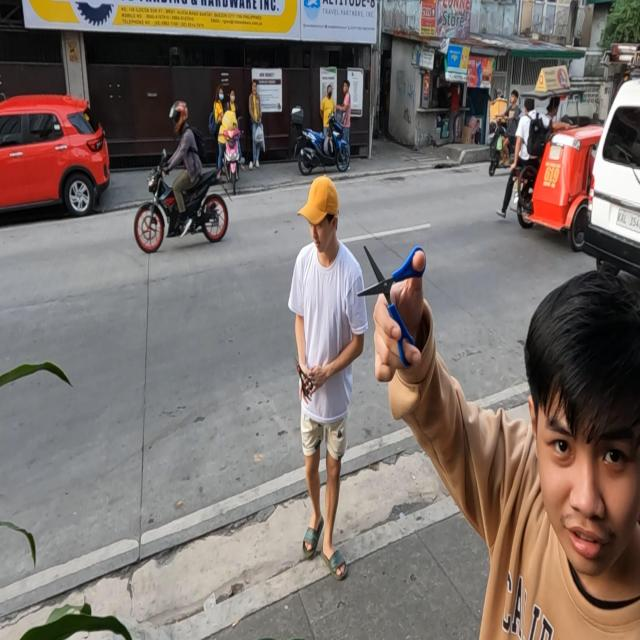scissor: (357, 244, 427, 368), (292, 349, 313, 398)
